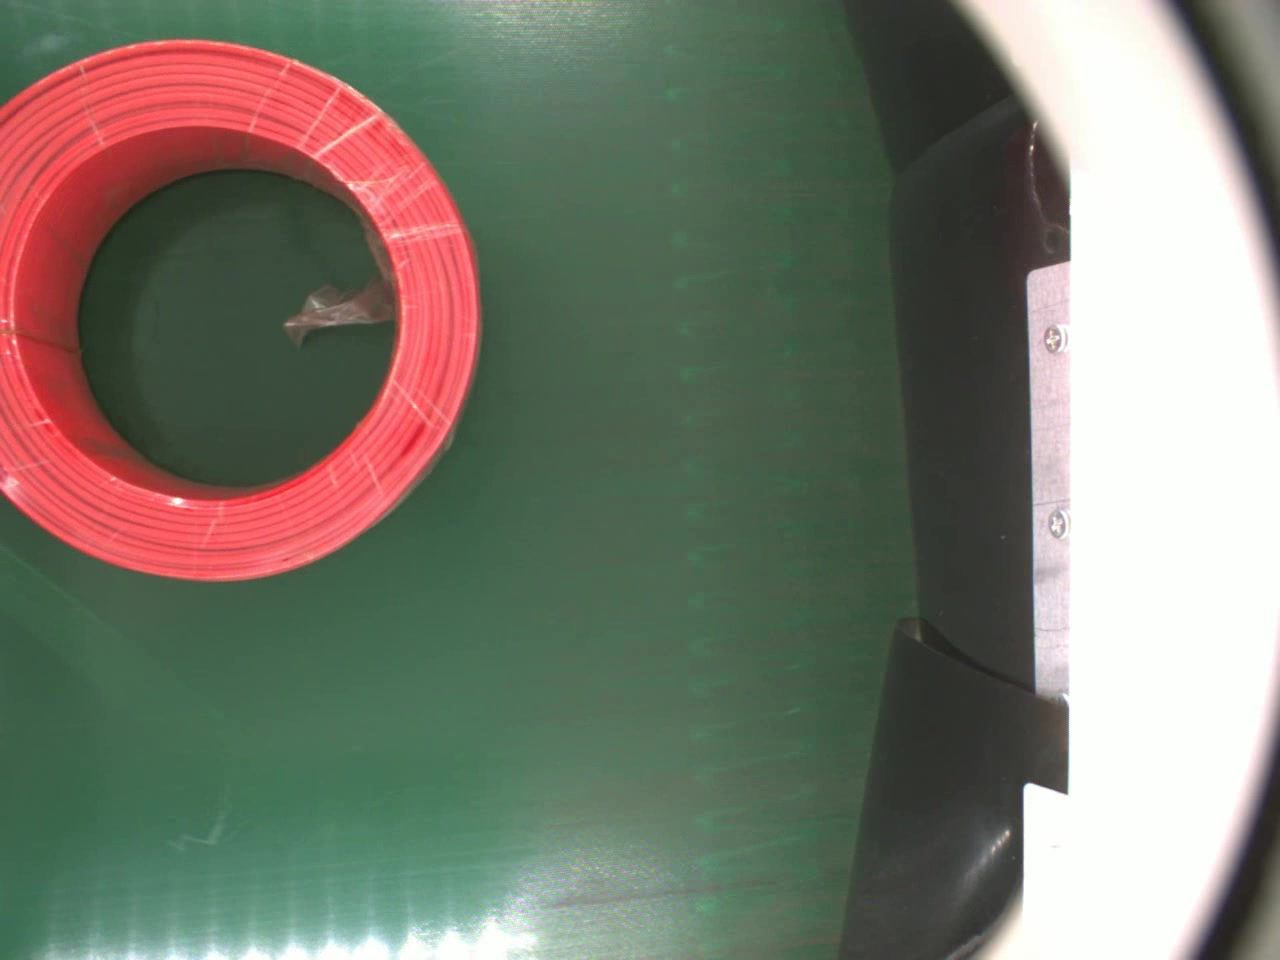red: (1, 38, 486, 578)
